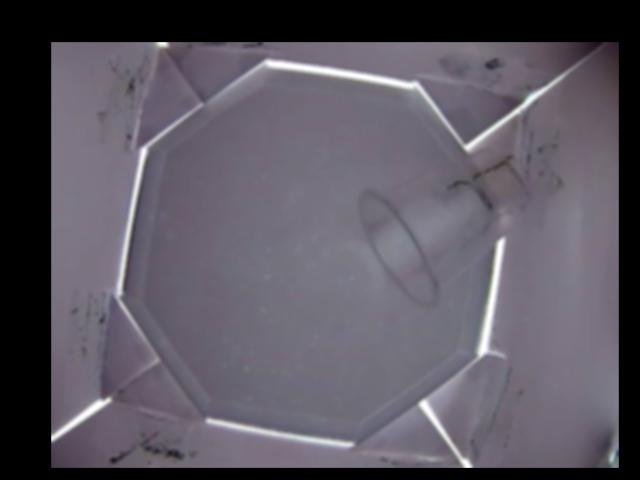Cup: (358, 145, 540, 303)
